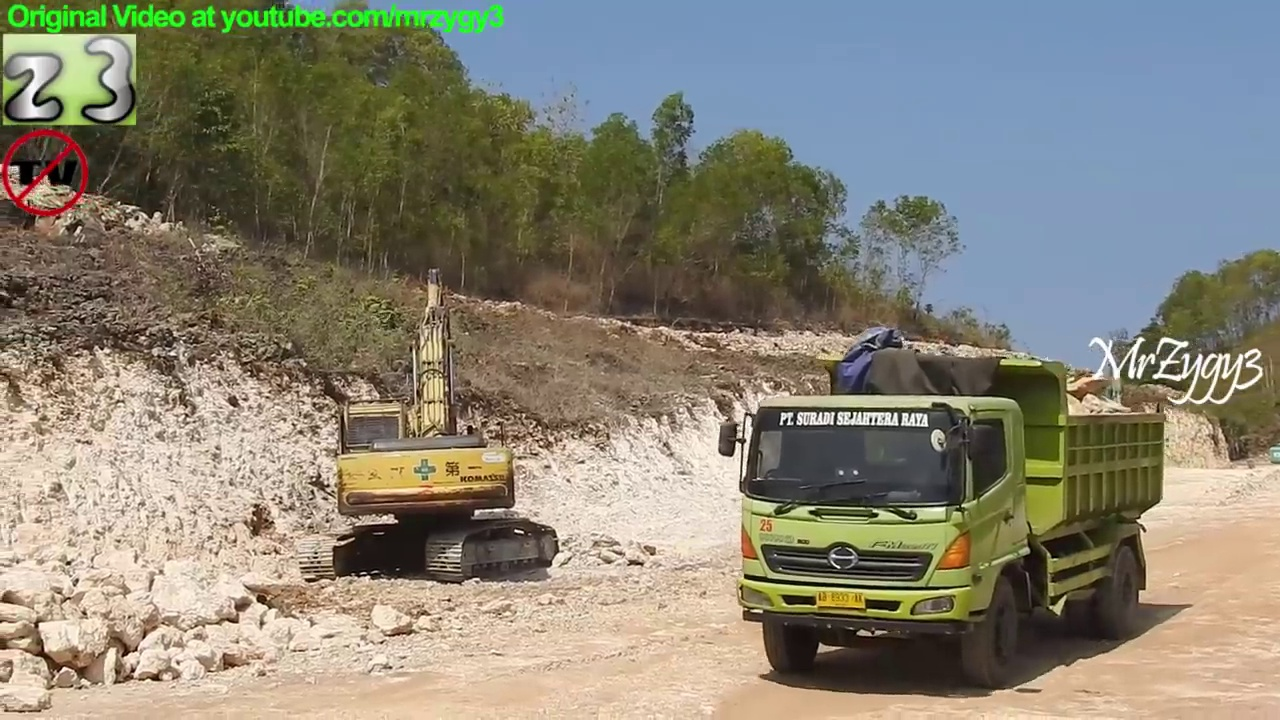excavator: (1079, 336, 1169, 483), (1261, 433, 1280, 478)
excavator breaker: (289, 259, 567, 589)
truck: (712, 323, 1174, 695)
